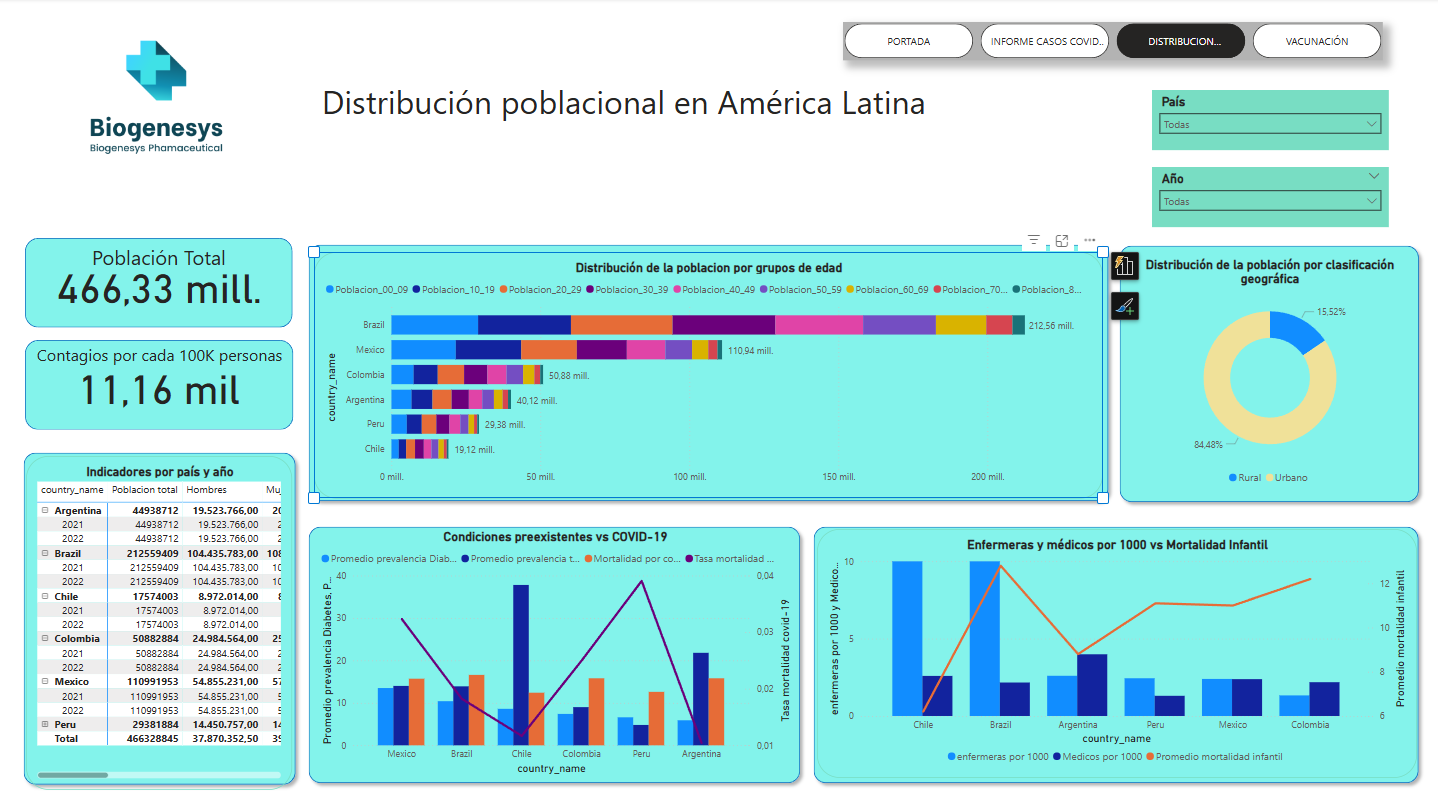

What the dashboard file says about the page in this screenshot:
{"tool":"powerbi","page":{"name":"DISTRIBUCION POBLACIONAL","canvas":[1920,1080],"ordinal":2},"visuals":[{"type":"image","box":[0,0,450,274],"z":0},{"type":"shape","box":[403.4,694.4,671.3,358.7],"z":1000},{"type":"shape","box":[34.8,455.1,356.8,119.4],"z":2000},{"type":"shape","box":[23.5,595.6,379.3,459.2],"z":3000},{"type":"shape","box":[402.8,319.7,1081.5,358.9],"z":4000},{"type":"barChart","title":"Distribución de la poblacion por grupos de edad","fields":{"Category":["DatosFinalesFiltrado.country_name"],"Y":["Medidas.Poblacion_00_09","Medidas.Poblacion_10_19","Medidas.Poblacion_20_29","Medidas.Poblacion_30_39","Medidas.Poblacion_40_49","Medidas.Poblacion_50_59","Medidas.Poblacion_60_69","Medidas.Poblacion_70_79","Medidas.Poblacion_80_mas"]},"box":[419.5,337.5,1048.7,328.1],"z":5000},{"type":"shape","box":[1074.7,694.4,822.2,358.7],"z":6000},{"type":"shape","box":[34.5,319.7,355.8,119.1],"z":7000},{"type":"lineClusteredColumnComboChart","title":"Condiciones preexistentes vs COVID-19","fields":{"Category":["DatosFinalesFiltrado.country_name"],"Y":["Medidas.Promedio prevalencia Diabetes","Medidas.Promedio prevalencia tabaquismo","Medidas.Mortalidad por comorbilidad"],"Y2":["Medidas.Tasa mortalidad covid-19"]},"box":[423.4,706.7,634.4,331],"z":8000},{"type":"lineClusteredColumnComboChart","title":"Enfermeras y médicos por 1000 vs Mortalidad Infantil","fields":{"Category":["DatosFinalesFiltrado.country_name"],"Y":["Medidas.enfermeras por 1000","Medidas.Medicos por 1000"],"Y2":["Medidas.Promedio mortalidad infantil"]},"box":[1088.6,706.7,797.6,331],"z":9000},{"type":"shape","box":[1481.2,320.3,415.7,358.7],"z":10000},{"type":"textbox","box":[424.8,103.5,846.5,91.1],"z":11000},{"type":"textbox","box":[46.9,320.5,332.6,48.4],"z":12000},{"type":"textbox","box":[23.5,454.5,379.3,45.5],"z":13000},{"type":"donutChart","title":"Distribución de la población por clasificación geográfica","fields":{"Y":["Sum(DatosFinalesFiltrado.population_rural)","Sum(DatosFinalesFiltrado.population_urban)"]},"box":[1495,344.9,391.1,312.6],"z":14000},{"type":"slicer","fields":{"Values":["DatosFinalesFiltrado.country_name"]},"box":[581.4,200,872.9,90],"z":15000},{"type":"pivotTable","title":"Indicadores por país y año","fields":{"Values":["Medidas.Poblacion total","Medidas.Hombres","Medidas.Mujeres","Medidas.Casos confirmados por 100k","Medidas.Muertes cada 100k","Medidas.Tasa mortalidad covid-19"],"Rows":["DatosFinalesFiltrado.country_name","DatosFinalesFiltrado.date.Variación.Jerarquía de fechas.Mes"]},"box":[34.3,610,354.3,444.3],"z":16000},{"type":"card","fields":{"Values":["Medidas.Poblacion total"]},"box":[47,355.8,332.3,70.5],"z":17000},{"type":"card","fields":{"Values":["Medidas.Casos confirmados por 100k"]},"box":[47,489,332.3,70.5],"z":18000},{"type":"slicer","fields":{"Values":["DatosFinalesFiltrado.date.Variación.Jerarquía de fechas.Año"]},"box":[1577.1,200,225.7,90],"z":19000},{"type":"pageNavigator","box":[1122.6,31.9,718.2,50.5],"z":20000}]}

Visuals, with their boxes on the page's 1920x1080 design canvas (x1, y1, x2, y2). These are canvas units, not pixel positions in the 1438x804 screenshot, which may show the page scaled, cropped or inside an application window:
image: (0,0,450,274)
shape: (403,694,1075,1053)
shape: (35,455,392,574)
shape: (24,596,403,1055)
shape: (403,320,1484,679)
"Distribución de la poblacion por grupos de edad" barChart: (420,338,1468,666)
shape: (1075,694,1897,1053)
shape: (34,320,390,439)
"Condiciones preexistentes vs COVID-19" lineClusteredColumnComboChart: (423,707,1058,1038)
"Enfermeras y médicos por 1000 vs Mortalidad Infantil" lineClusteredColumnComboChart: (1089,707,1886,1038)
shape: (1481,320,1897,679)
textbox: (425,104,1271,195)
textbox: (47,320,380,369)
textbox: (24,454,403,500)
"Distribución de la población por clasificación geográfica" donutChart: (1495,345,1886,658)
slicer - DatosFinalesFiltrado.country_name: (581,200,1454,290)
"Indicadores por país y año" pivotTable: (34,610,389,1054)
card - Medidas.Poblacion total: (47,356,379,426)
card - Medidas.Casos confirmados por 100k: (47,489,379,560)
slicer - DatosFinalesFiltrado.date.Variación.Jerarquía de fechas.Año: (1577,200,1803,290)
pageNavigator: (1123,32,1841,82)
